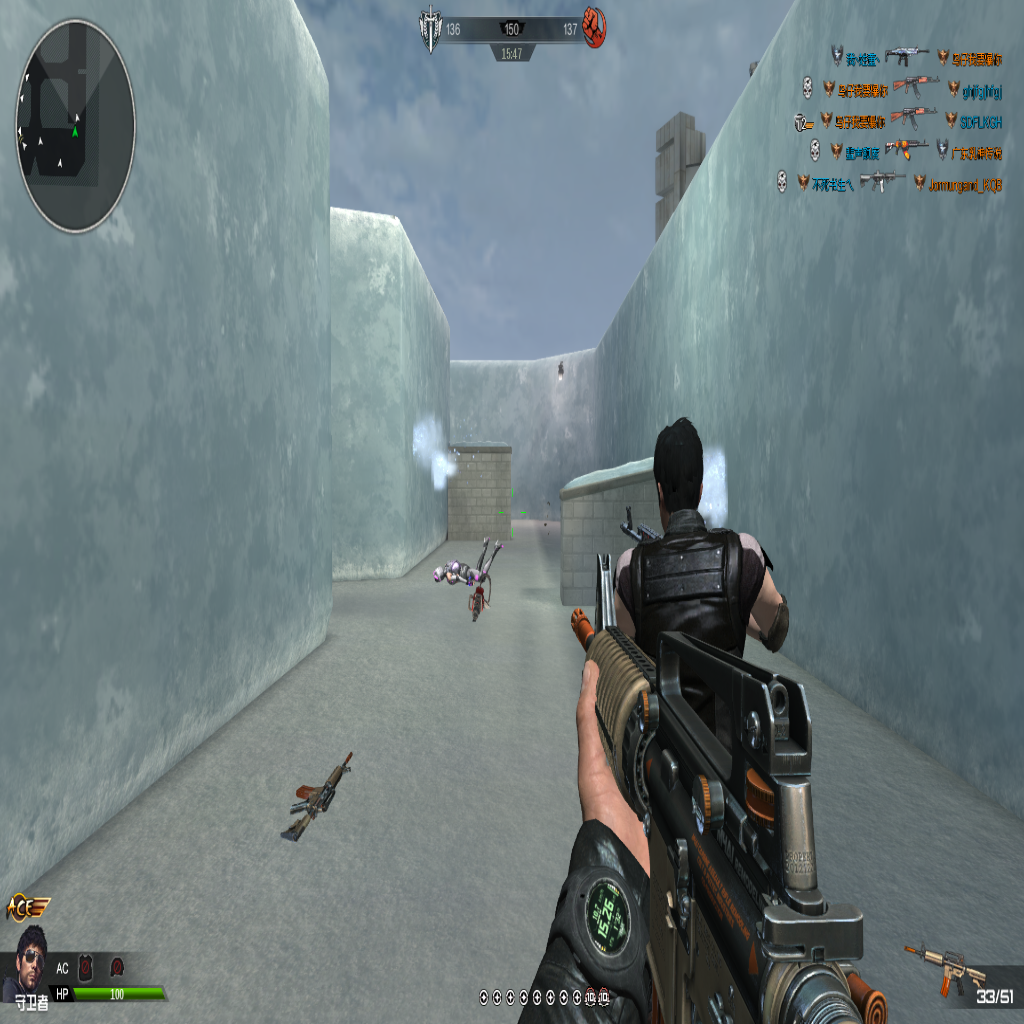ct: (622, 418, 796, 674)
